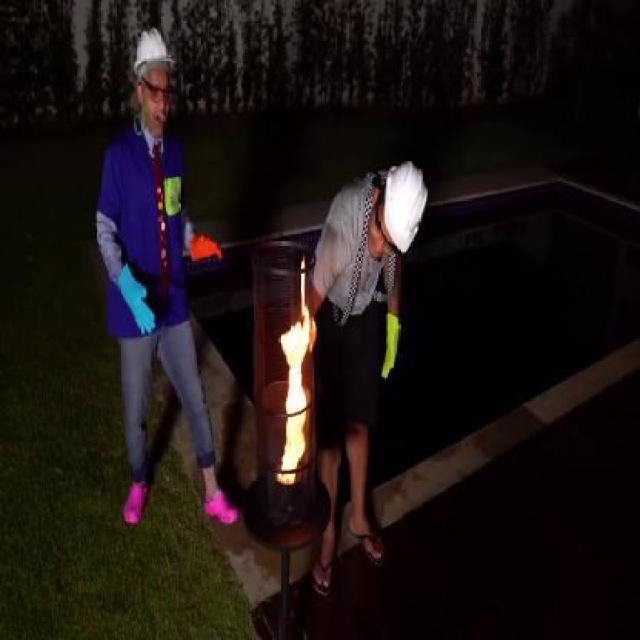Fire: (274, 317, 312, 486), (296, 256, 313, 316)
